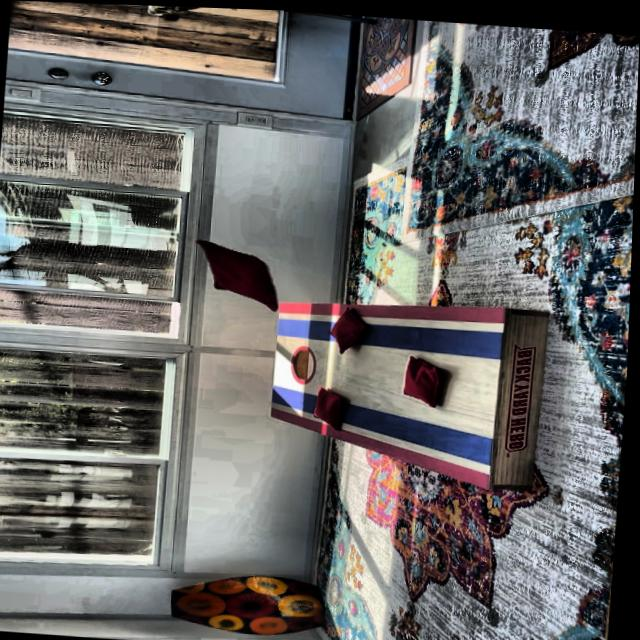board: (273, 295, 504, 446)
hole: (291, 341, 320, 381)
red-bean-bag: (194, 237, 284, 307), (404, 350, 446, 402), (331, 302, 371, 350), (315, 383, 348, 426)
